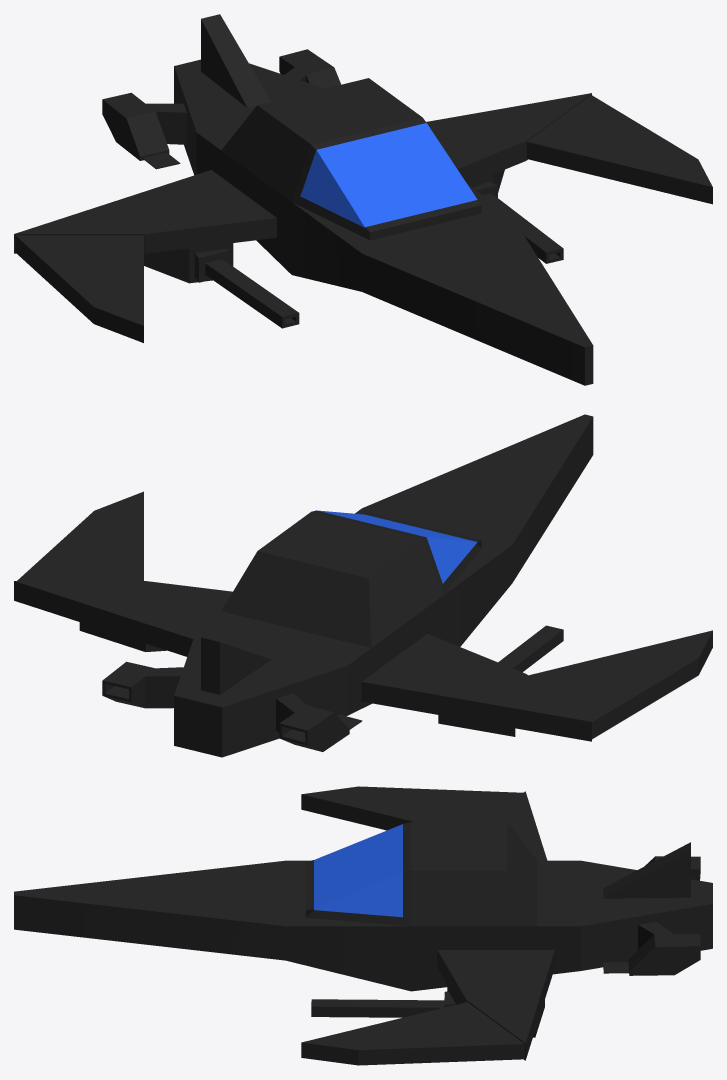
Rendered from Interceptor 2.FBX.
The picture shows the model from 3 angles, top to bottom: view 1: azimuth 30°, elevation 25°; view 2: azimuth 150°, elevation 25°; view 3: azimuth 270°, elevation 25°; orthographic projection. The views are drawn at different scales.
Visible parts, largest first — view 1: Interceptor 2; view 2: Interceptor 2; view 3: Interceptor 2.
Boxes of the visible parts, x1,y1,x2,y2 form: Interceptor 2: [14, 14, 712, 385]; Interceptor 2: [14, 414, 712, 757]; Interceptor 2: [14, 786, 712, 1065].
Size of the model in its own units: 9.71 by 2.06 by 10.88.
